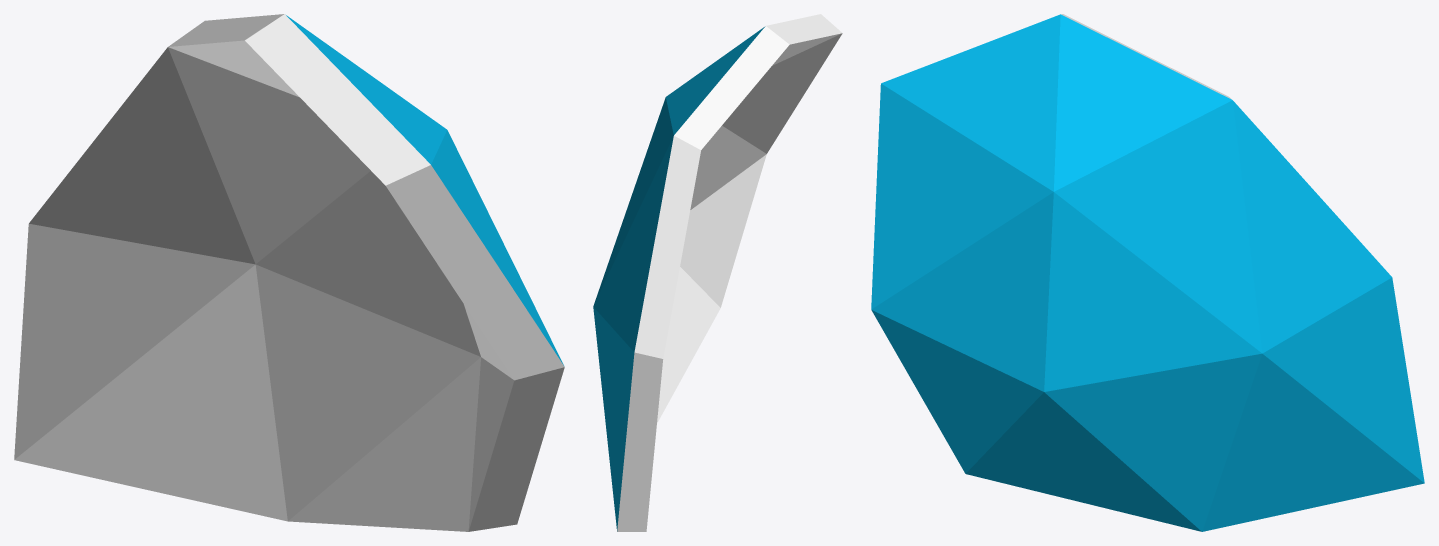
Rendered from alaDer.obj.
3 renders of one model, left to right at view 1: azimuth 30°, elevation 25°; view 2: azimuth 150°, elevation 25°; view 3: azimuth 270°, elevation 25°, orthographic. The views are drawn at different scales.
Parts seen in each view (by area): view 1: polySurface12 polySurface5 polySurface3 clock:polySurface2; view 2: polySurface12 polySurface5 polySurface3 clock:polySurface2; view 3: polySurface12 polySurface5 polySurface3 clock:polySurface2.
Part boxes in pixels (x1,y1,x2,y2): polySurface12 polySurface5 polySurface3 clock:polySurface2: (14,14,564,531); polySurface12 polySurface5 polySurface3 clock:polySurface2: (593,14,842,531); polySurface12 polySurface5 polySurface3 clock:polySurface2: (871,14,1424,531).
Bounding box in the file's own units: 0.1909 × 0.4156 × 0.4426.
1 material, 1 textured.
